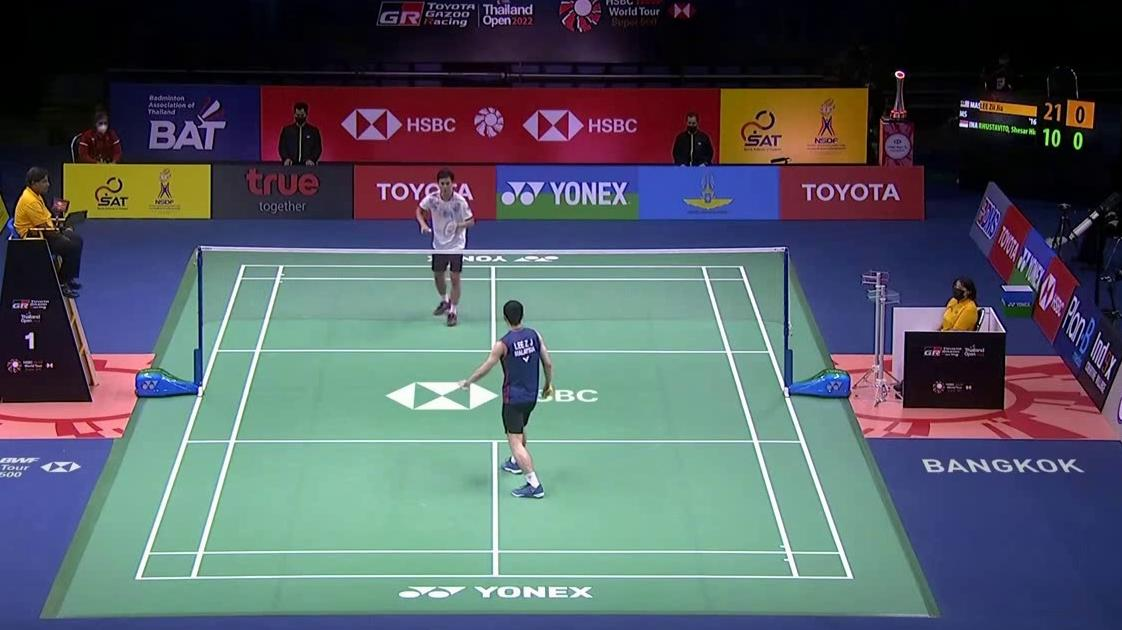racket: (512, 386, 554, 407), (421, 220, 458, 237)
shuttle: (457, 380, 470, 391)
